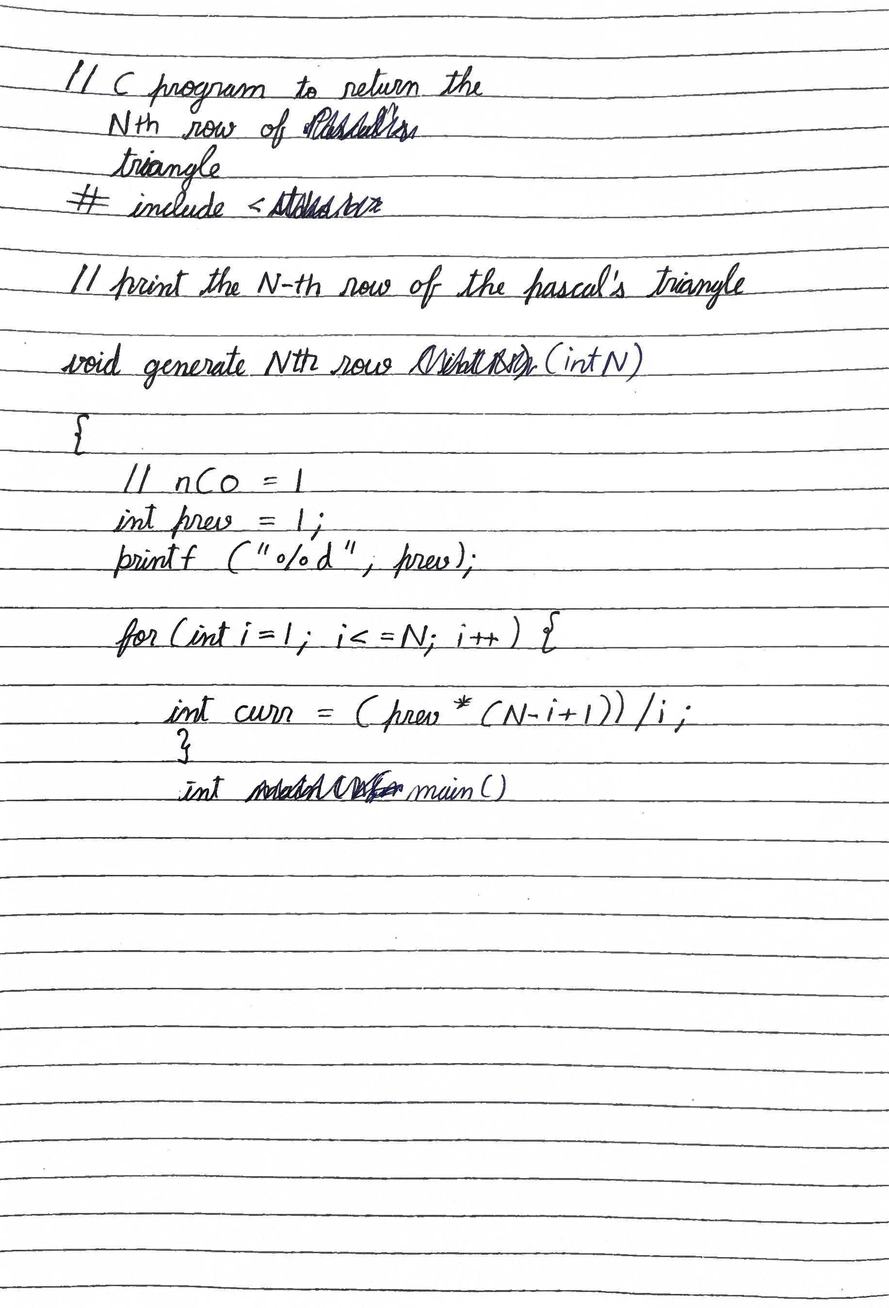cuttings: (245, 770, 405, 803), (302, 100, 419, 141), (248, 187, 384, 221), (413, 344, 533, 379)
